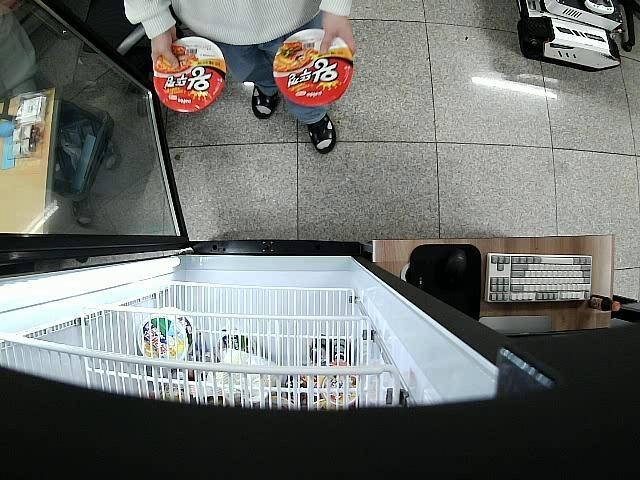10_wangTtukkeong: (275, 28, 353, 106), (152, 35, 226, 111)
